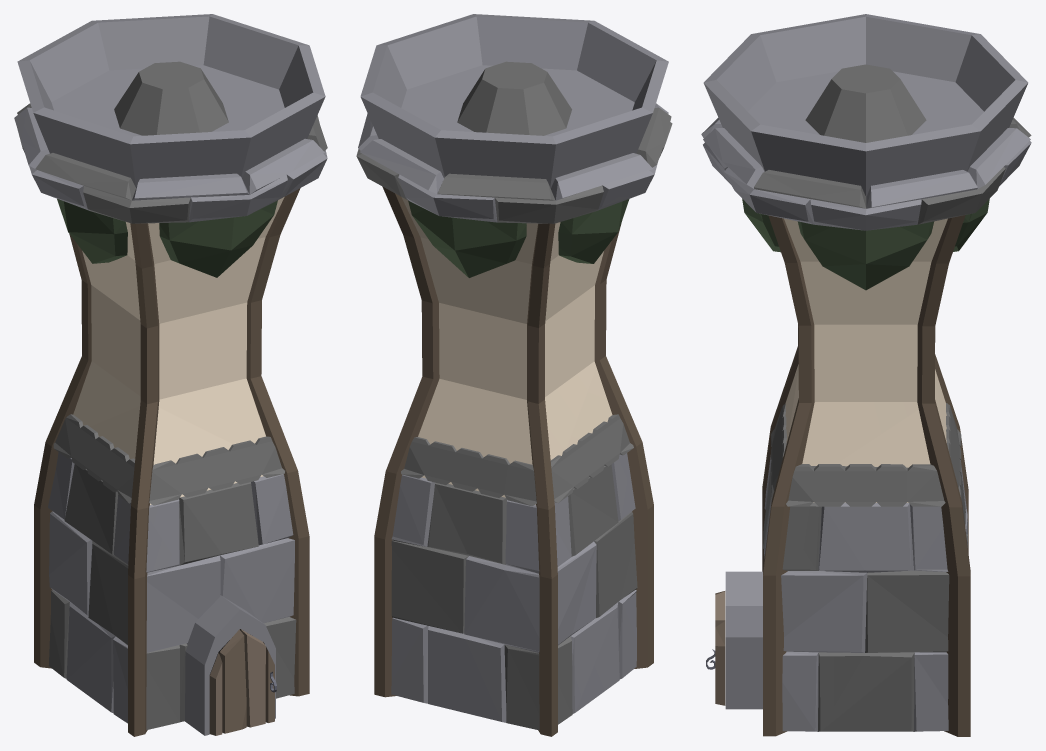
The model's file is Canon_tower_LVL_1_Body.fbx.
The picture shows the model from 3 angles, left to right: view 1: azimuth 30°, elevation 25°; view 2: azimuth 150°, elevation 25°; view 3: azimuth 270°, elevation 25°; orthographic projection.
Visible parts, largest first — view 1: Cannon_tower_LVL_1; view 2: Cannon_tower_LVL_1; view 3: Cannon_tower_LVL_1.
Part boxes in pixels (left/top/right/bottom): Cannon_tower_LVL_1: left=14, top=14, right=327, bottom=736; Cannon_tower_LVL_1: left=356, top=14, right=672, bottom=736; Cannon_tower_LVL_1: left=701, top=14, right=1031, bottom=736.
Bounding box in the file's own units: 604 × 1235 × 603.
